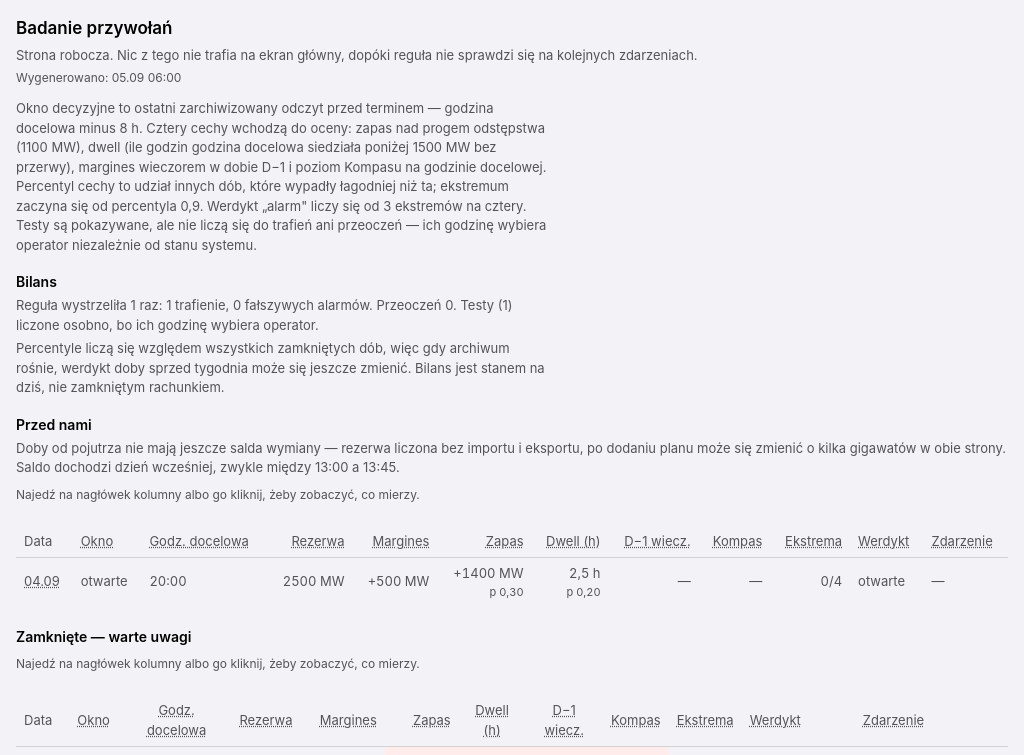
Test: Badanie › explains a column at once on hover and pins it on click
The width and height of the screenshot is (1024, 755).
expect the heading "Badanie przywołań" is shown: met, box [16,18,172,38]
expect the 1st message "Najedź na nagłówek kolumny albo go kliknij, żeby zobaczyć, co mierzy." is shown: met, box [16,486,420,502]
Note: Hover: shown immediately, no browser tooltip delay involved.
Hover over the 1st button "Dwell (h)": (573,541) [546,532,601,551]
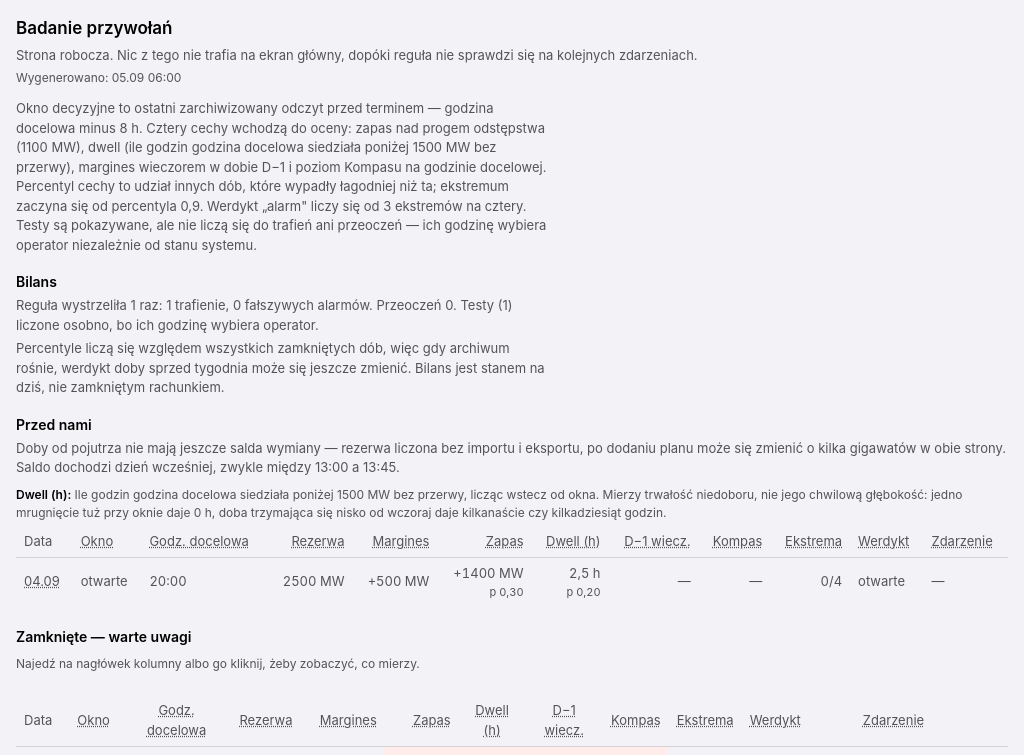
expect the message that starts with "Dwell (h)" shows "siedziała poniżej": met, box [16,486,962,520]
Move the pointer off the 1st button "Dwell (h)", box [546,532,601,551]
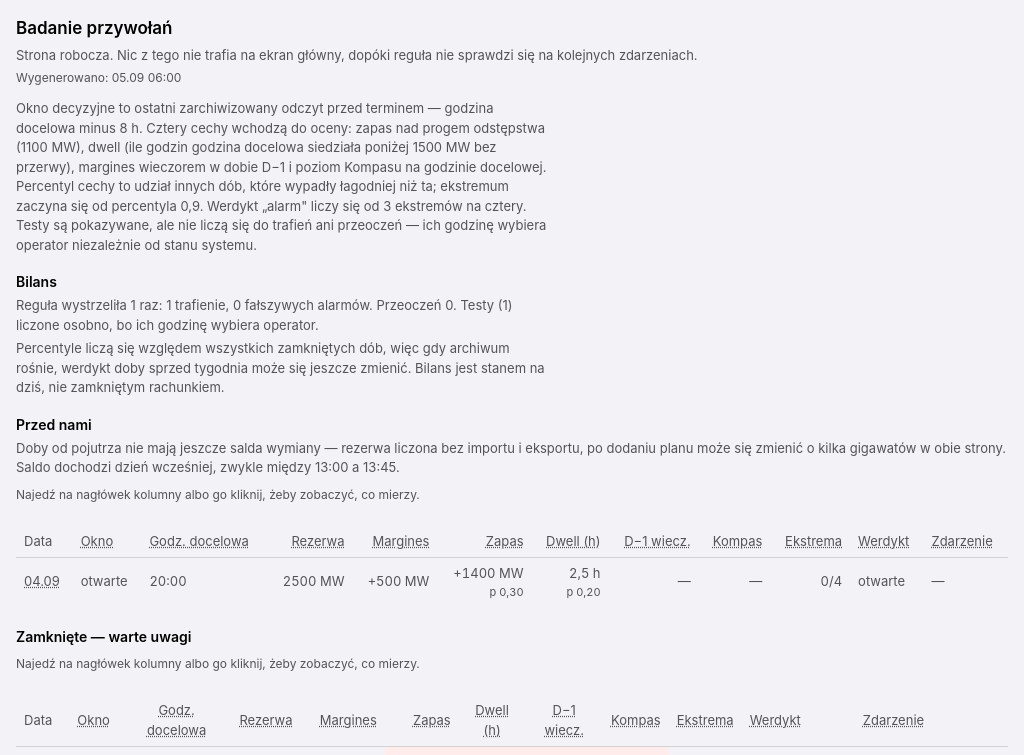
expect the 1st message "Najedź na nagłówek kolumny albo go kliknij, żeby zobaczyć, co mierzy." is shown: met, box [16,486,420,502]
Note: Click pins it — the only gesture a phone has.
Click the 1st button "Dwell (h)": (573,541) [546,532,601,551]
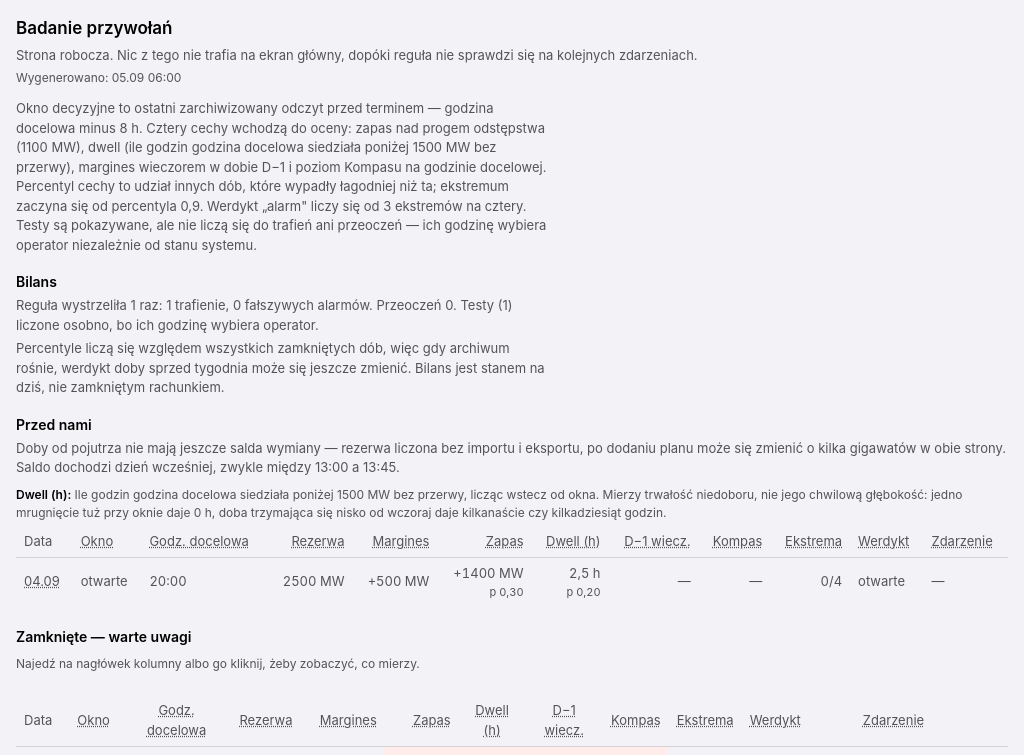
expect the message that starts with "Dwell (h)" shows "siedziała poniżej": met, box [16,486,962,520]
Hover over the 1st button "Zapas": (505,541) [486,532,524,551]
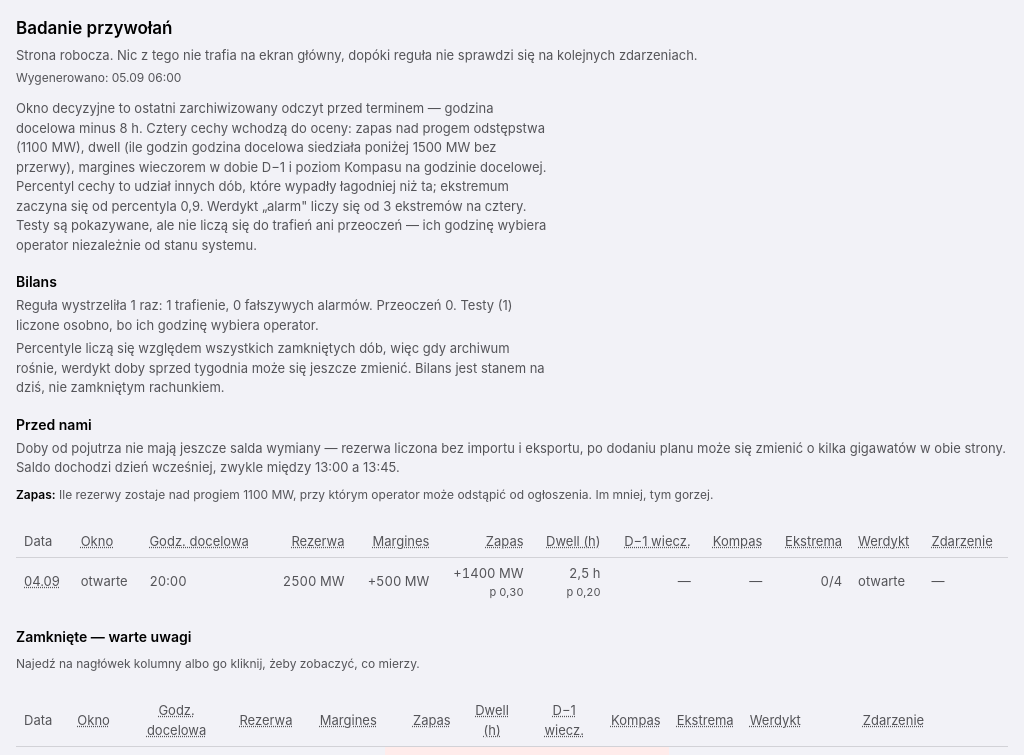
expect the message that starts with "Zapas" shows "nad progiem": met, box [59,486,713,502]
Move the pointer off the 1st button "Zapas", box [486,532,524,551]
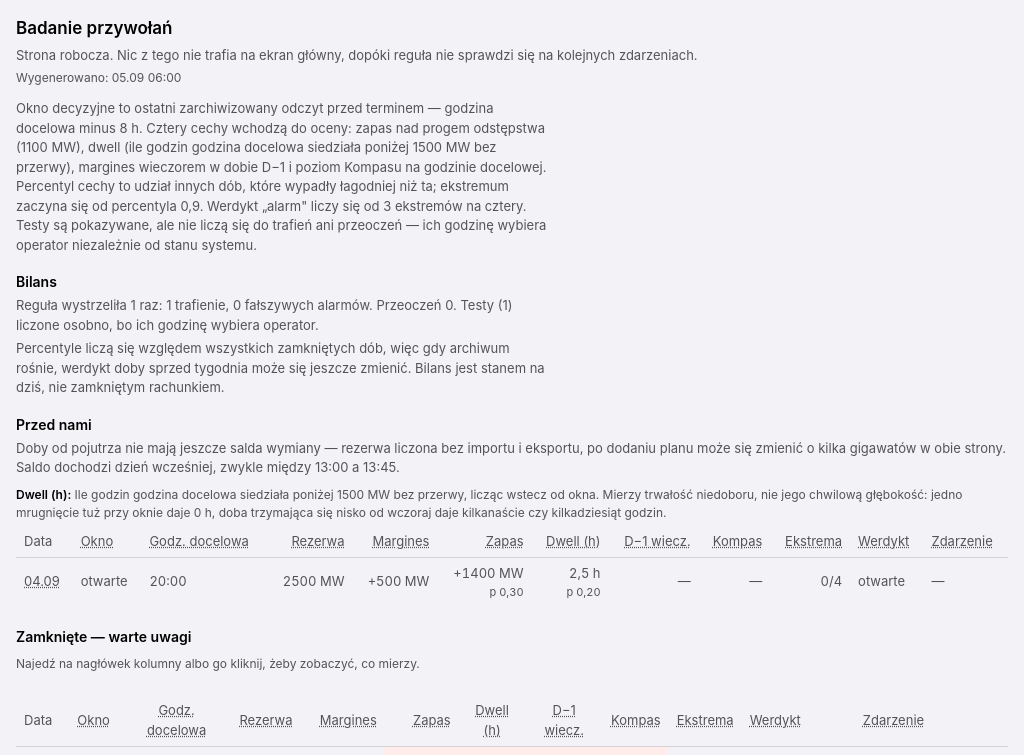
expect the message that starts with "Dwell (h)" shows "siedziała poniżej": met, box [16,486,962,520]
Click the 1st button "Dwell (h)": (573,541) [546,532,601,551]
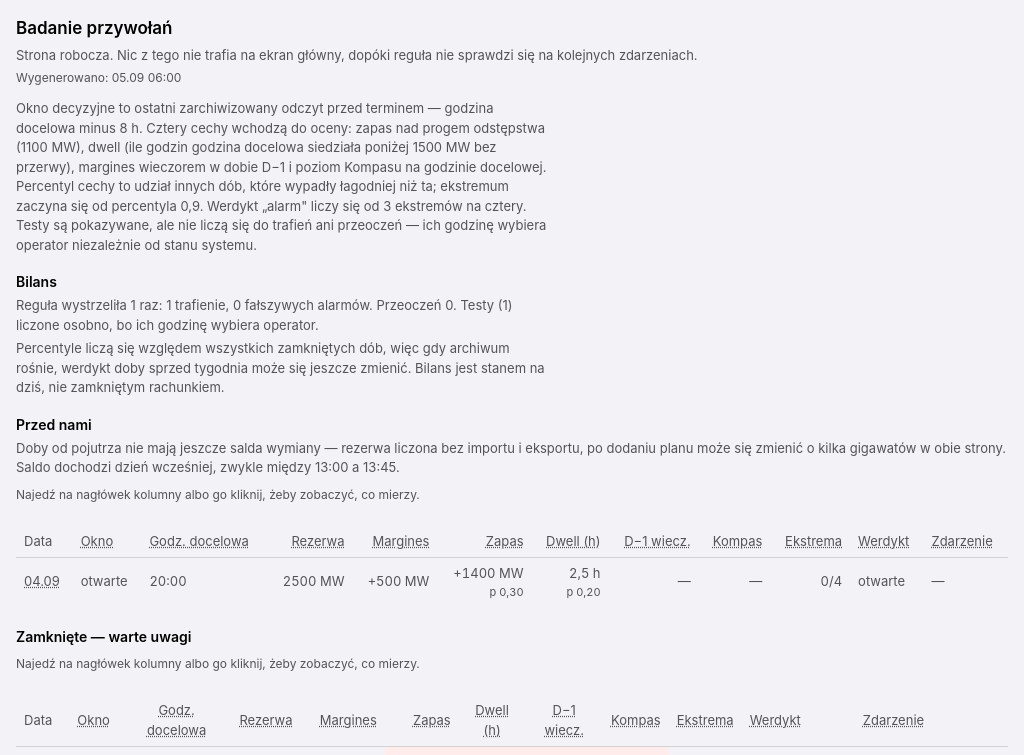
expect the 1st button "Zapas" is shown: met, box [486,532,524,551]
expect the 1st message "Najedź na nagłówek kolumny albo go kliknij, żeby zobaczyć, co mierzy." is shown: met, box [16,486,420,502]
